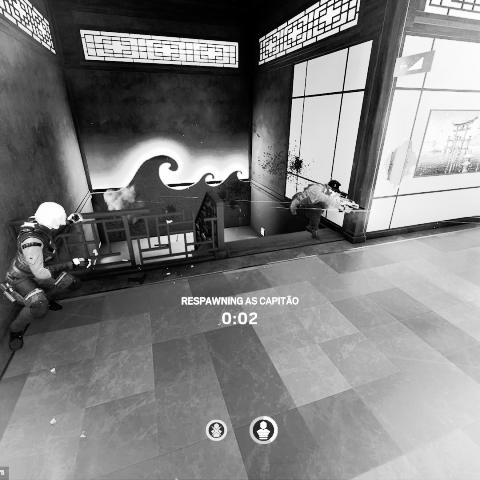Character: (2, 195, 77, 364), (292, 177, 358, 242)
Head: (35, 200, 66, 230), (326, 178, 342, 198)
